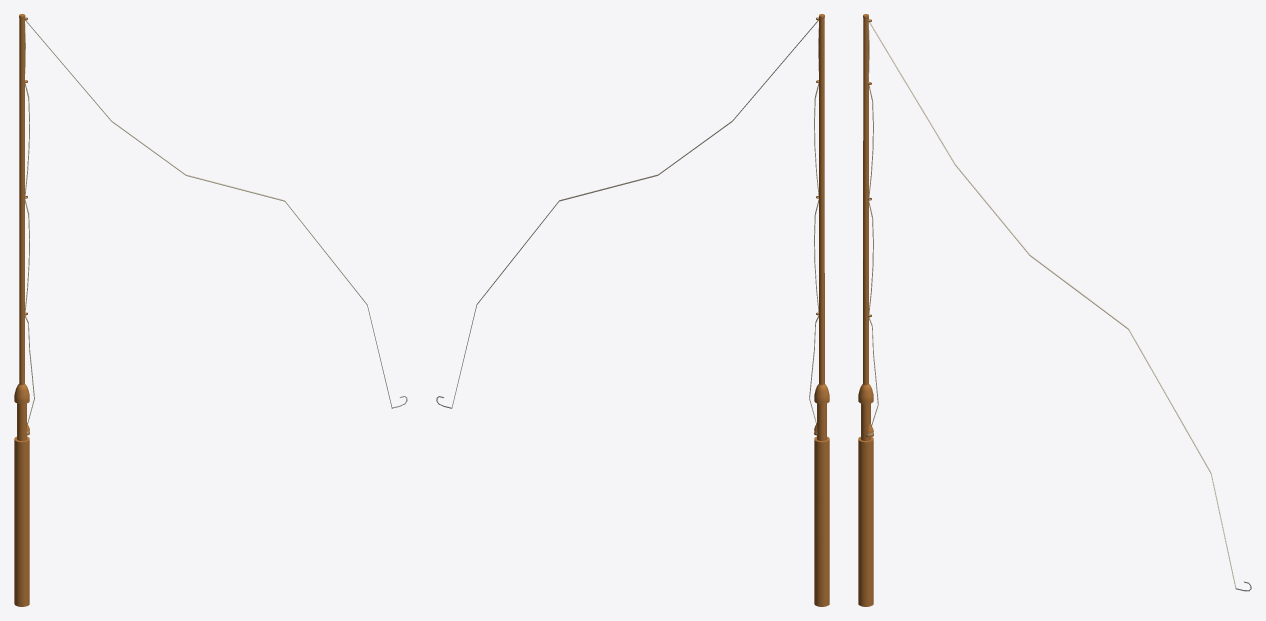
The model's file is rodfishing.fbx.
3 renders of one model, left to right at view 1: azimuth 30°, elevation 25°; view 2: azimuth 150°, elevation 25°; view 3: azimuth 330°, elevation 25°, orthographic.
Visible parts, largest first — view 1: Cylinder002, Cylinder006, Cylinder010; view 2: Cylinder002, Cylinder006, Cylinder010; view 3: Cylinder002, Cylinder006, Cylinder010.
Boxes of the visible parts, left/top/right/bottom form: Cylinder002: left=14, top=436, right=29, bottom=606; Cylinder006: left=16, top=14, right=27, bottom=390; Cylinder010: left=25, top=20, right=392, bottom=408; Cylinder002: left=814, top=436, right=829, bottom=606; Cylinder006: left=816, top=14, right=827, bottom=390; Cylinder010: left=451, top=20, right=818, bottom=408; Cylinder002: left=858, top=436, right=873, bottom=606; Cylinder006: left=860, top=14, right=871, bottom=390; Cylinder010: left=868, top=20, right=1235, bottom=588.
Size of the model in its own units: 447 by 640 by 15.19.
